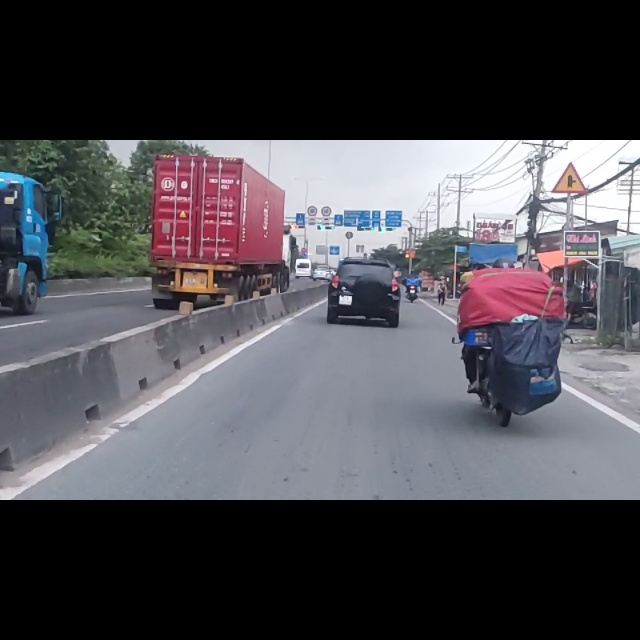bien_hieu_lenh: (552, 39, 588, 95), (321, 117, 332, 135), (308, 116, 317, 135)
